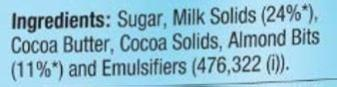ingredients: (7, 7, 319, 87)
